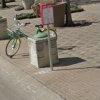Bicycle: (3, 18, 58, 62)
